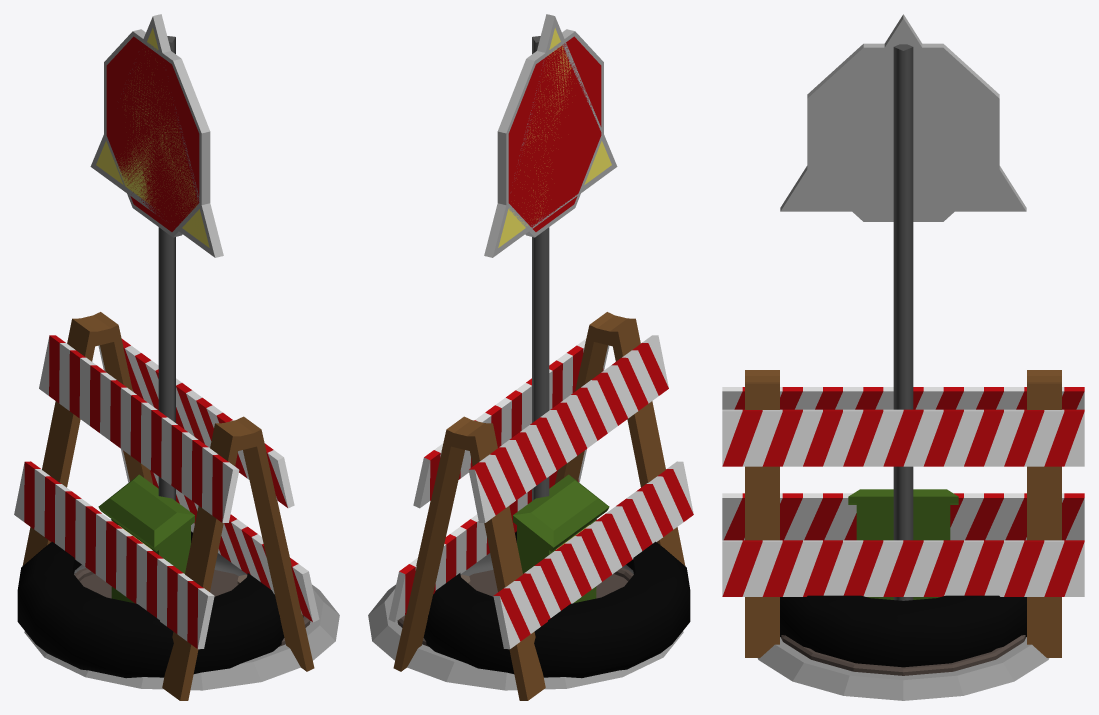
File: StreetStuff01.fbx
3 views of the same model, side by side, from view 1: azimuth 30°, elevation 25°; view 2: azimuth 150°, elevation 25°; view 3: azimuth 270°, elevation 25° (orthographic).
Parts seen in each view (by area): view 1: Blockade, Sign01, Tire, TunnelGate, Sign02, Post; view 2: Blockade, Sign01, Tire, TunnelGate, Post, Sign02; view 3: Blockade, Sign01, Sign02, Tire, TunnelGate, Post.
Boxes of the visible parts, <box> form: Blockade: <box>14,312,319,700</box>; Sign01: <box>104,29,210,500</box>; Tire: <box>17,519,284,678</box>; TunnelGate: <box>24,568,339,690</box>; Sign02: <box>90,14,223,257</box>; Post: <box>98,474,194,603</box>; Blockade: <box>388,312,693,700</box>; Sign01: <box>497,29,603,500</box>; Tire: <box>423,519,690,678</box>; TunnelGate: <box>368,568,683,690</box>; Post: <box>513,474,609,603</box>; Sign02: <box>484,14,617,257</box>; Blockade: <box>722,370,1084,657</box>; Sign01: <box>807,43,999,600</box>; Sign02: <box>780,14,1026,211</box>; Tire: <box>780,595,1026,667</box>; TunnelGate: <box>757,635,1049,700</box>; Post: <box>848,489,958,599</box>.
Size of the model in its own units: 173 by 357 by 193.
